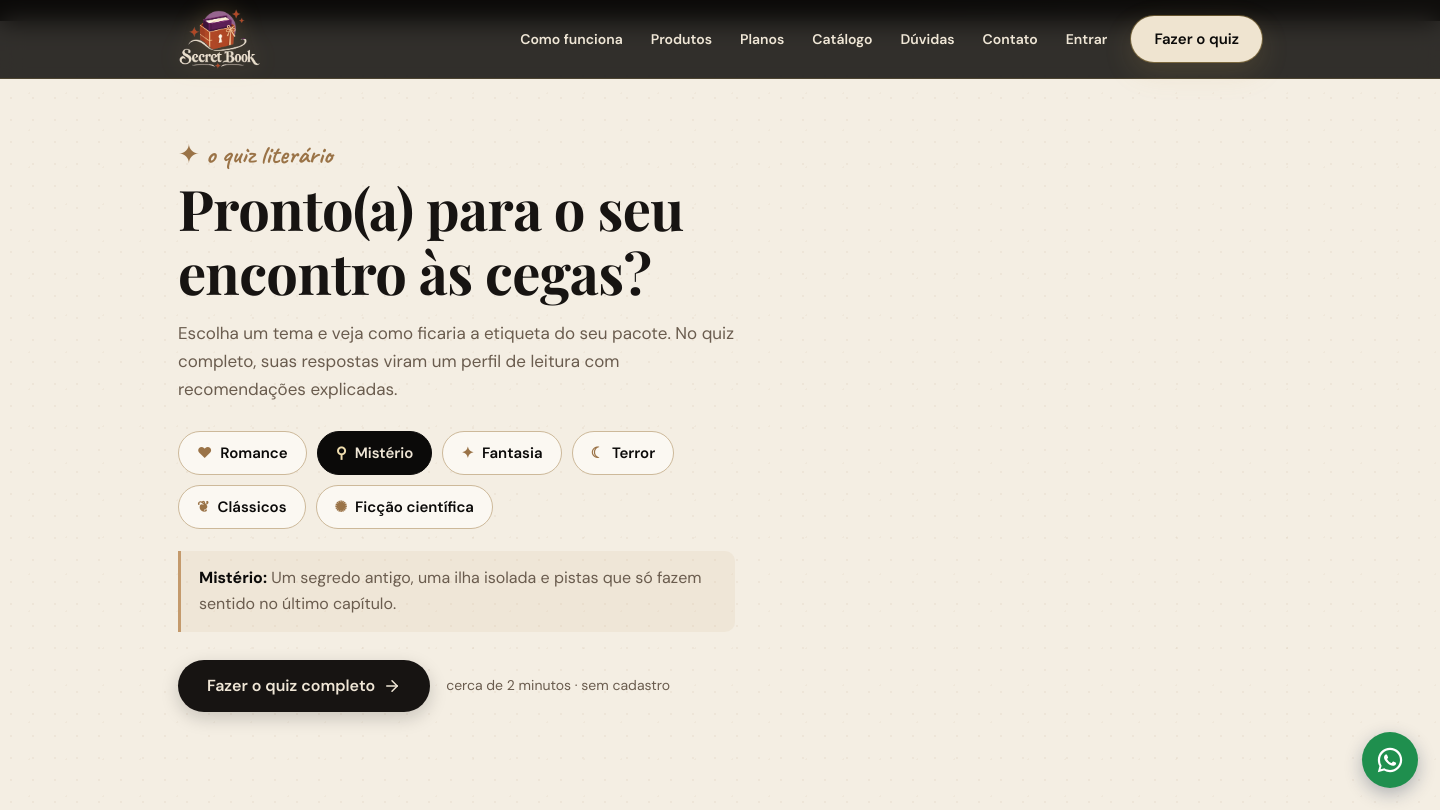
Test case: Landing page › troca a prévia do quiz ao escolher um tema
The image size is (1440, 810).
(page scrolled)
Click the button "✦ Fantasia" at (502, 453), box [442,431,562,475]
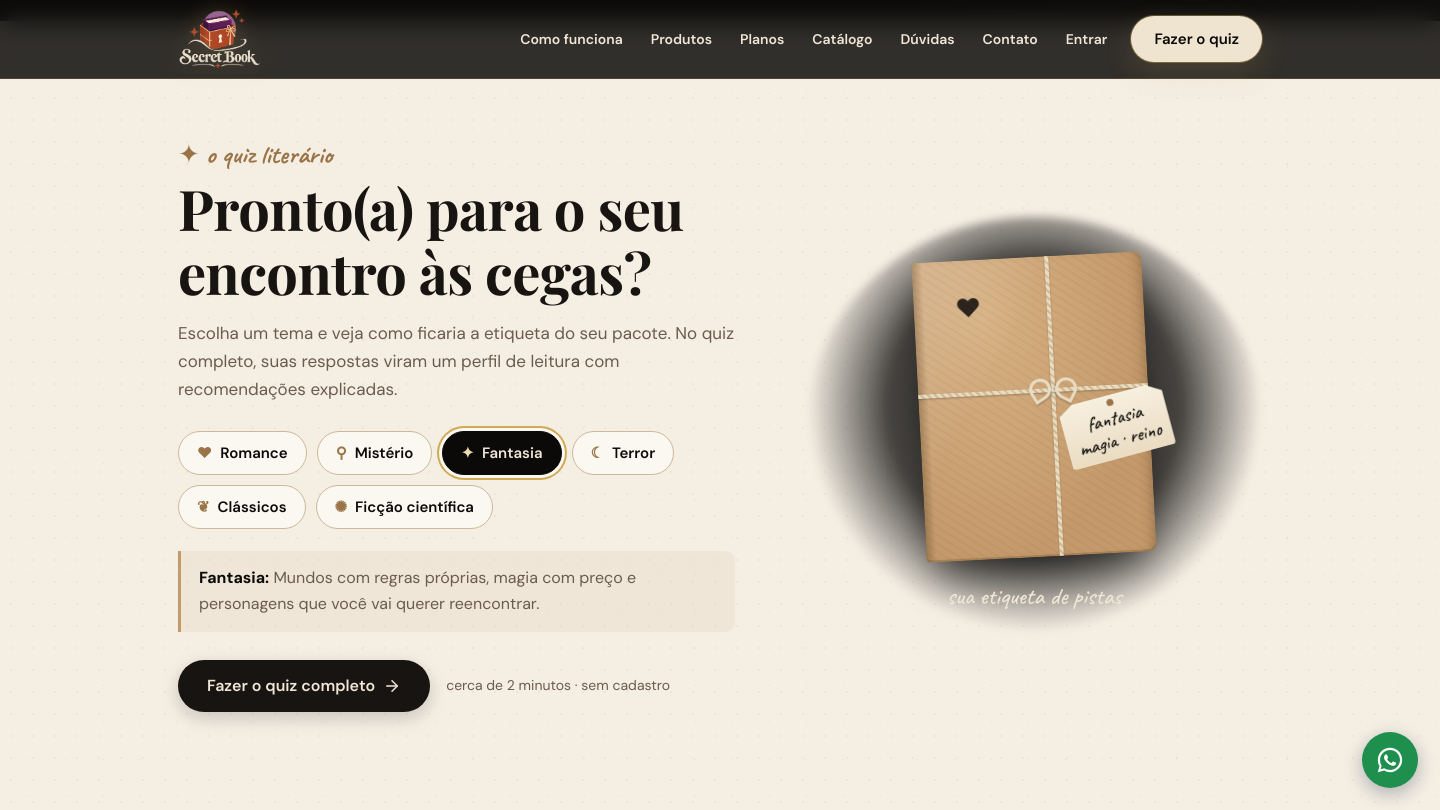
Result: the text "Mundos com regras próprias" is shown at [199,567,636,614]
